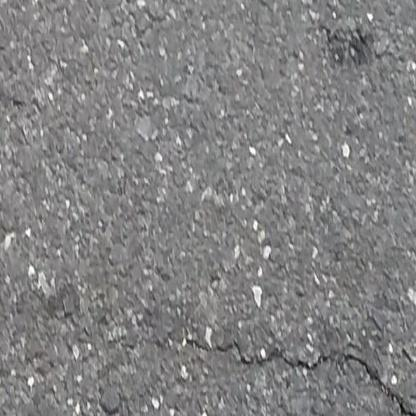Cracks: (340, 350, 416, 416), (212, 338, 334, 375)
